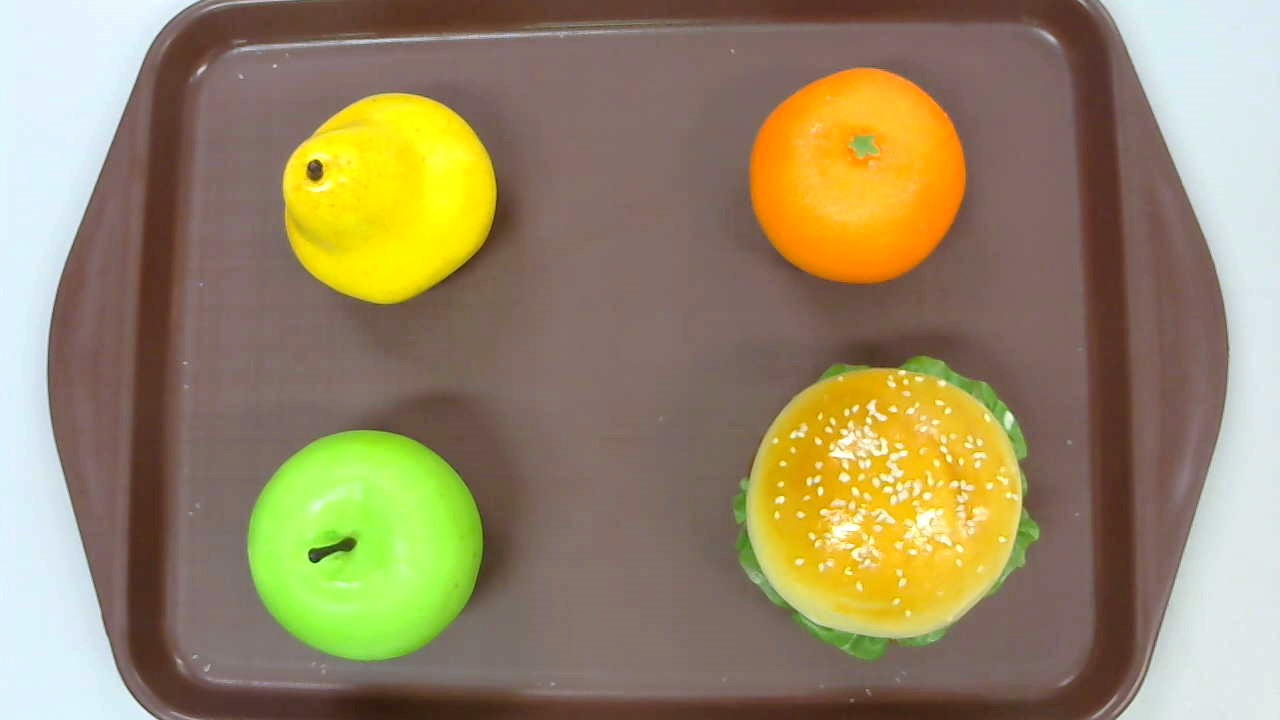green apple: (247, 428, 483, 660)
hamburger: (732, 355, 1040, 665)
orange: (749, 68, 966, 285)
yellow pear: (281, 92, 496, 306)
